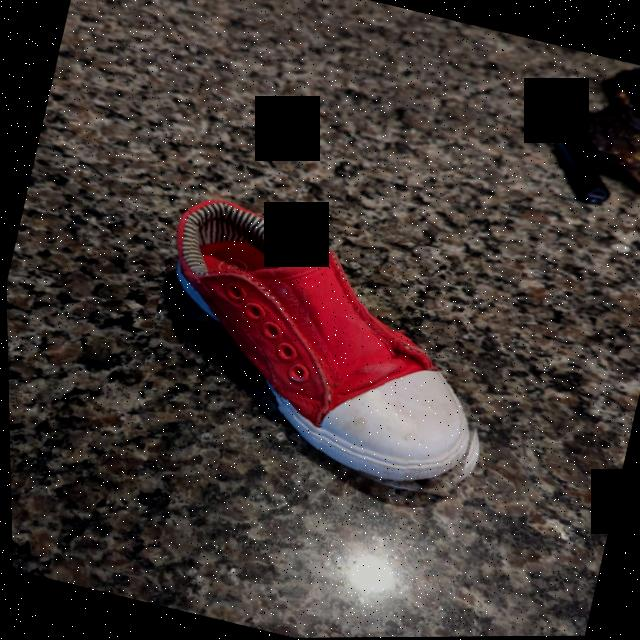shoe: (123, 185, 527, 512)
